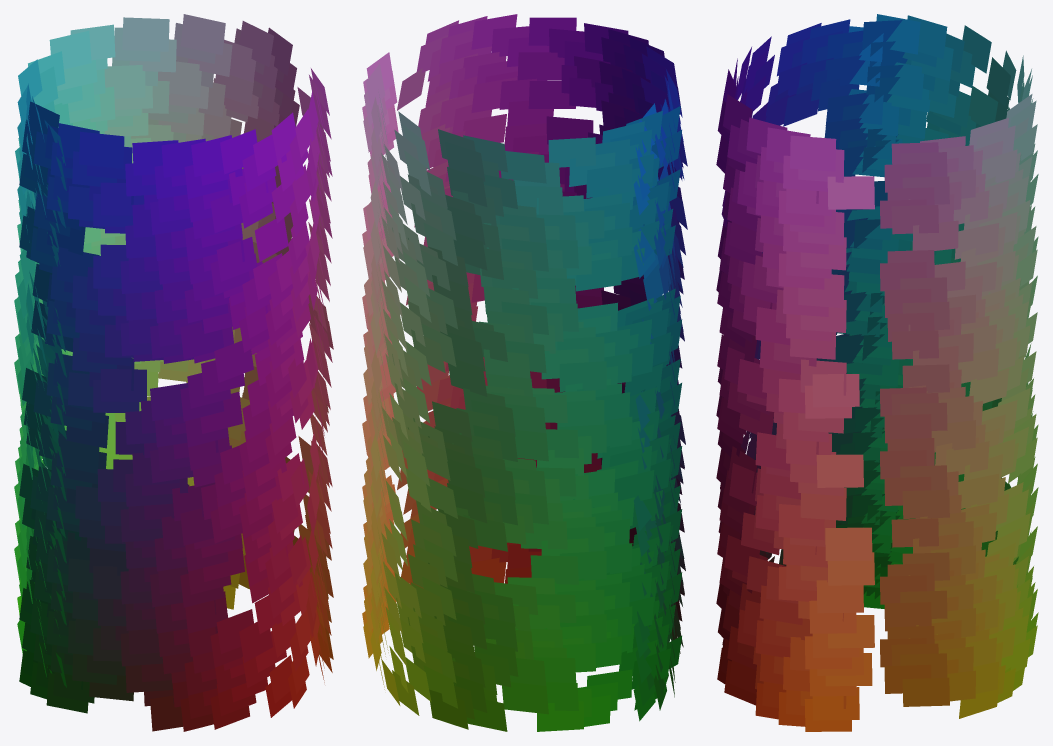
The model's file is SM_PivotMotion_MultipleObjectsPivotBake.fbx.
3 renders of one model, left to right at view 1: azimuth 30°, elevation 25°; view 2: azimuth 150°, elevation 25°; view 3: azimuth 270°, elevation 25°, orthographic.
Visible parts, largest first — view 1: TreeRoot_Leaves_Combined; view 2: TreeRoot_Leaves_Combined; view 3: TreeRoot_Leaves_Combined.
Boxes of the visible parts, x1=… form: TreeRoot_Leaves_Combined: x1=14, y1=14, x2=333, y2=731; TreeRoot_Leaves_Combined: x1=362, y1=14, x2=687, y2=731; TreeRoot_Leaves_Combined: x1=716, y1=14, x2=1038, y2=731.
Size of the model in its own units: 0.9937 by 2.09 by 1.04.
